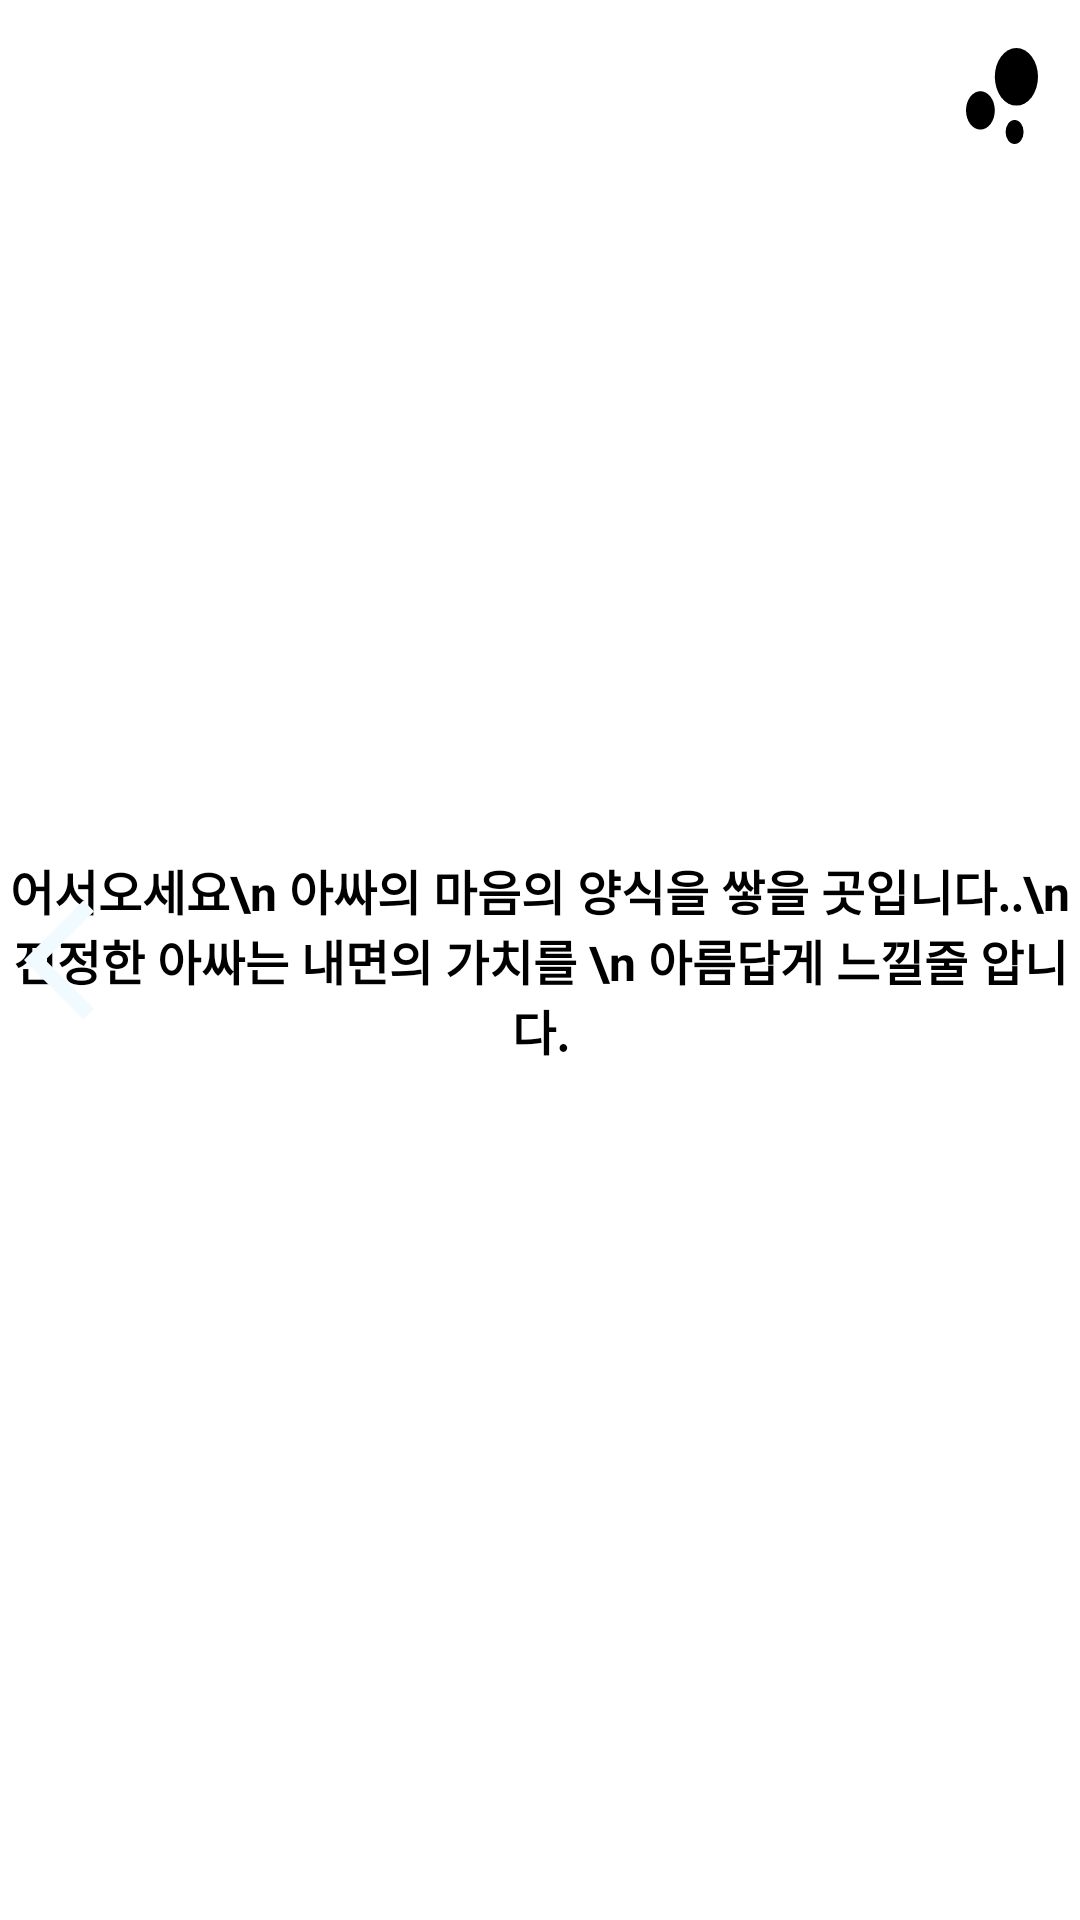

Screen size 1080px x 1920px. Icon name, then its center in pixels as point (x, y):
bubble chart: point (1002, 96)
